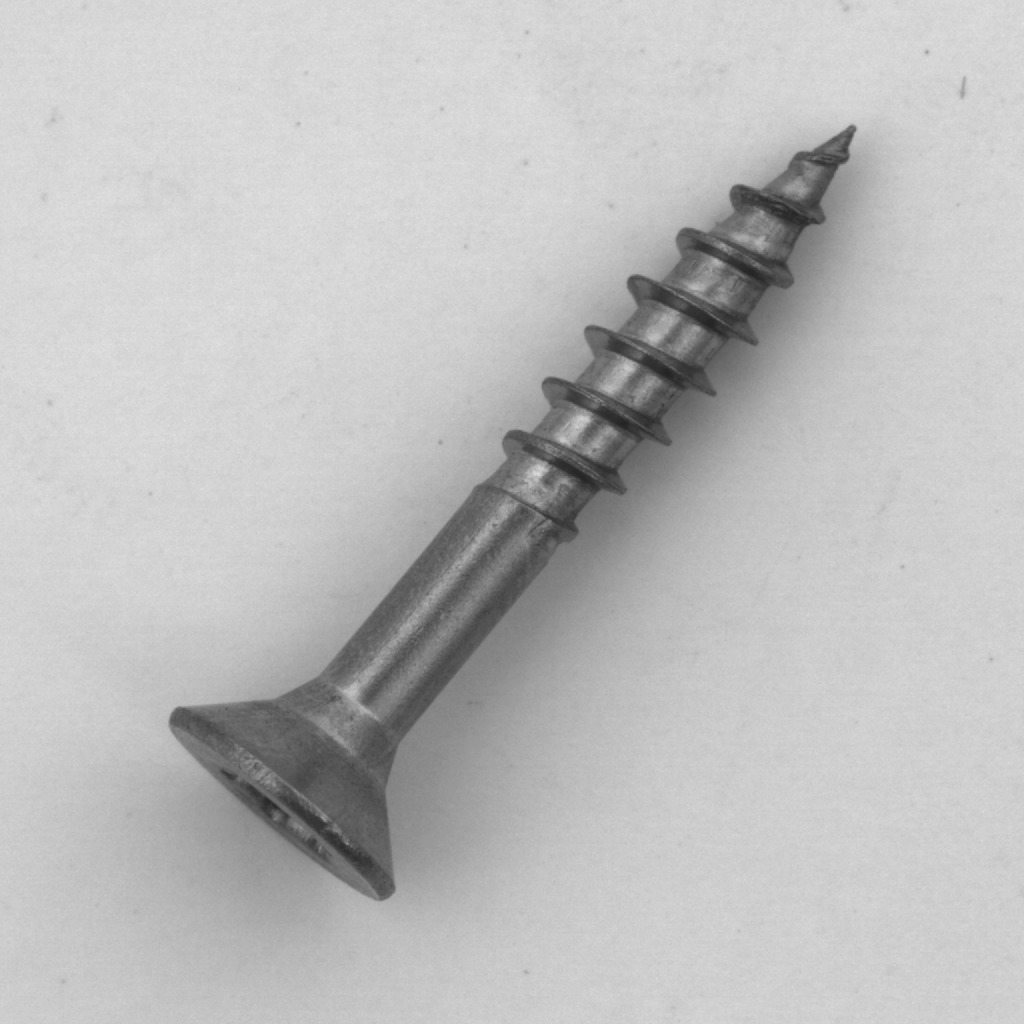good: (151, 100, 879, 915)
